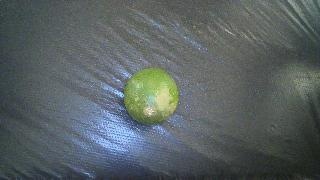DESECHO: (124, 68, 178, 125)
